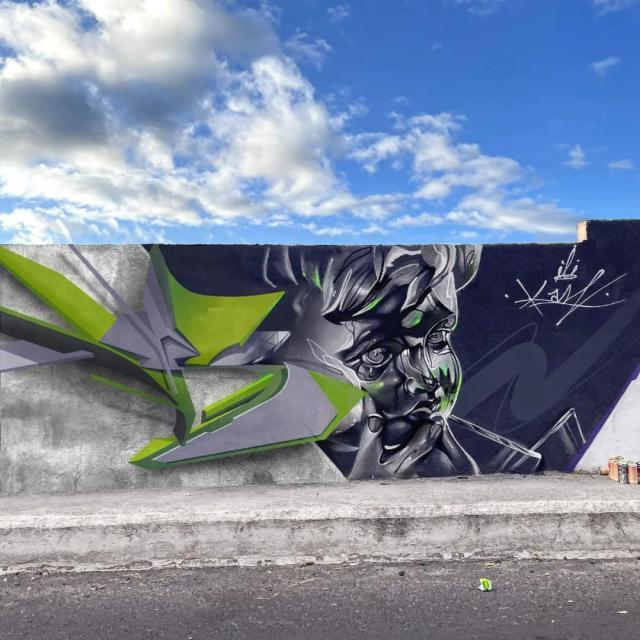-: (0, 243, 379, 479), (259, 210, 507, 490), (507, 240, 622, 322)
